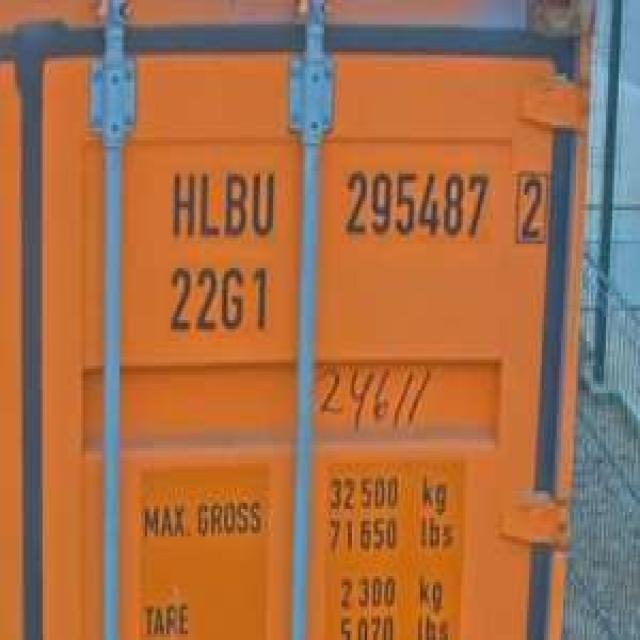dv: (510, 166, 550, 245)
owner: (163, 157, 281, 240)
serial: (339, 158, 491, 248)
size: (161, 261, 272, 337)
